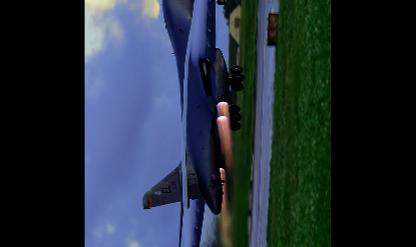AV8B: (142, 0, 244, 246)
